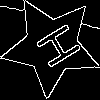H: (26, 21, 83, 76)
